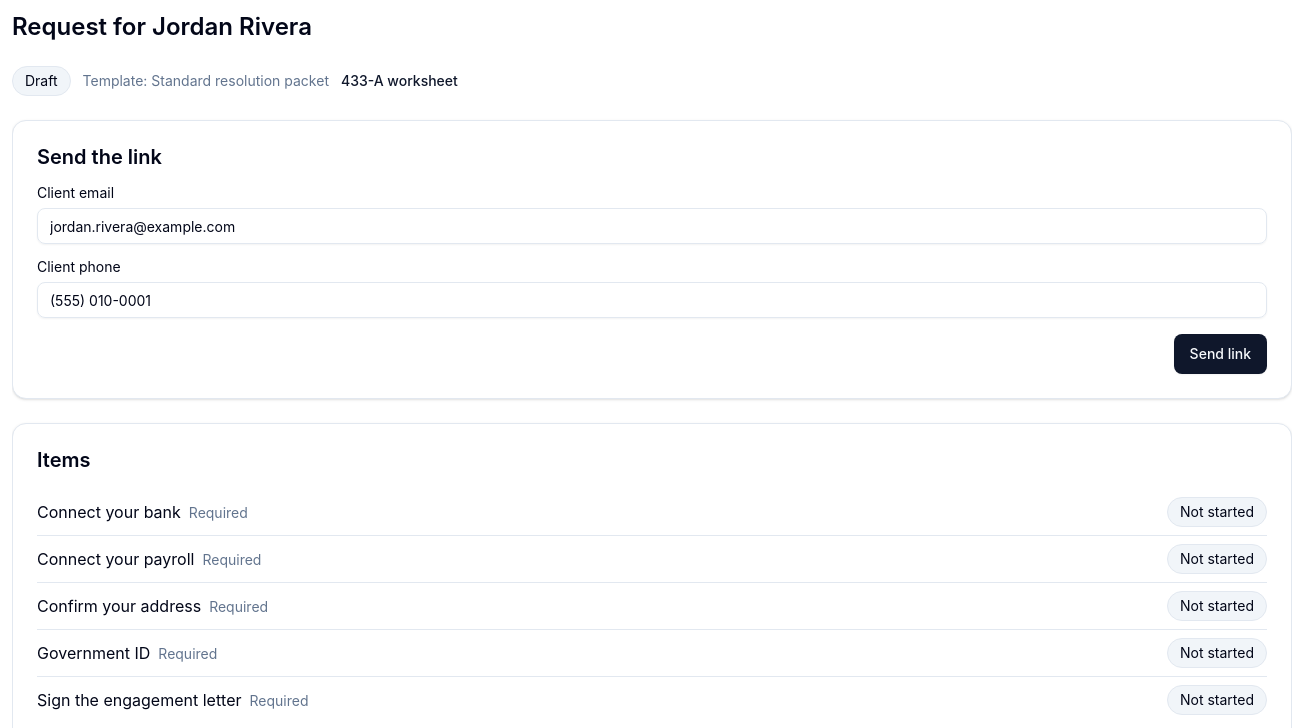
Test: RequestPage › shows the Logics not-configured alert from the send route
Click the button "Send link": click(1220, 354) [1174,334,1267,374]
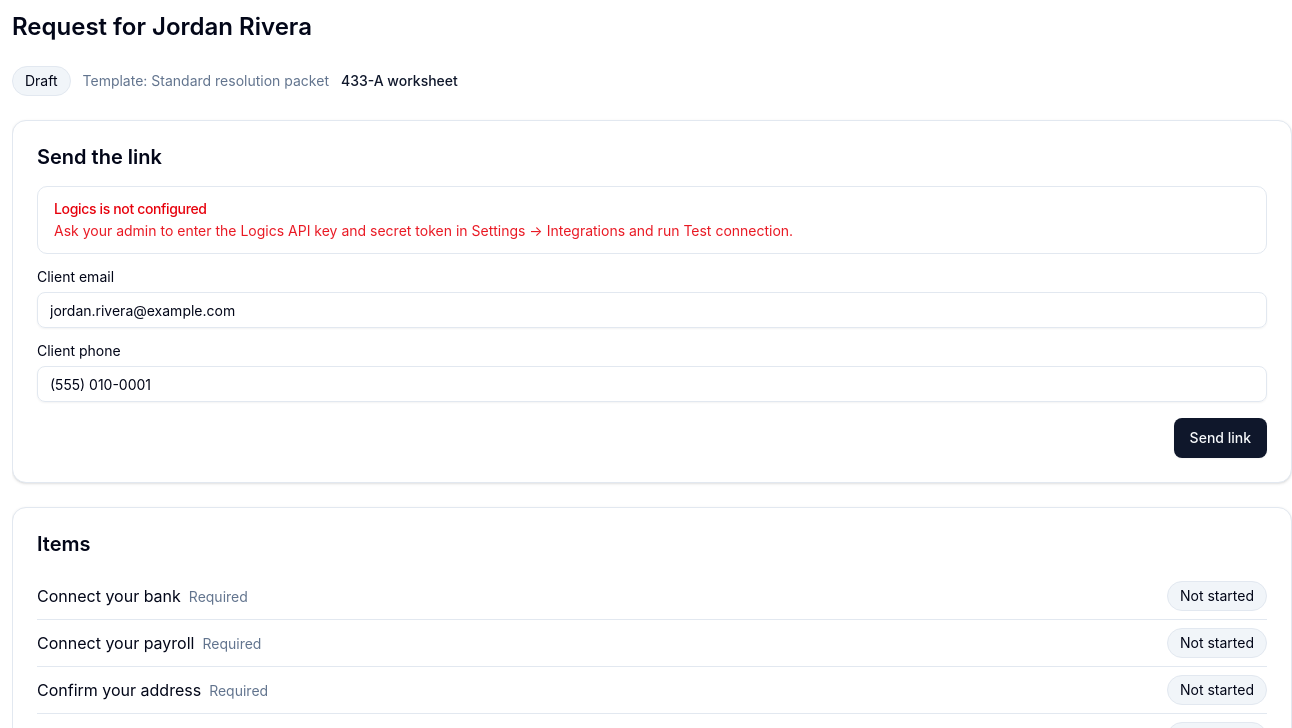
Expected: the text "Logics is not configured" is shown, [54,200,207,217]
